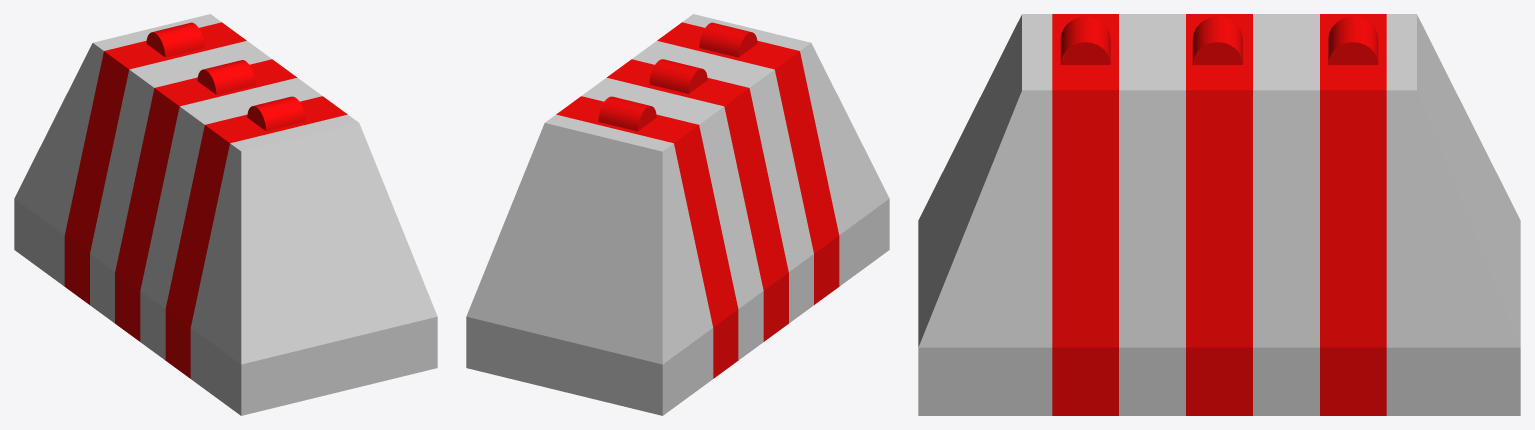
File: Barrera.fbx
3 renders of one model, left to right at view 1: azimuth 30°, elevation 25°; view 2: azimuth 150°, elevation 25°; view 3: azimuth 270°, elevation 25°, orthographic. The views are drawn at different scales.
Visible parts, largest first — view 1: Barrera; view 2: Barrera; view 3: Barrera.
Part boxes in pixels (x1=…): Barrera: x1=14, y1=14, x2=437, y2=415; Barrera: x1=466, y1=14, x2=889, y2=415; Barrera: x1=918, y1=14, x2=1520, y2=415.
Bounding box in the file's own units: 78.74 × 157 × 93.18.
